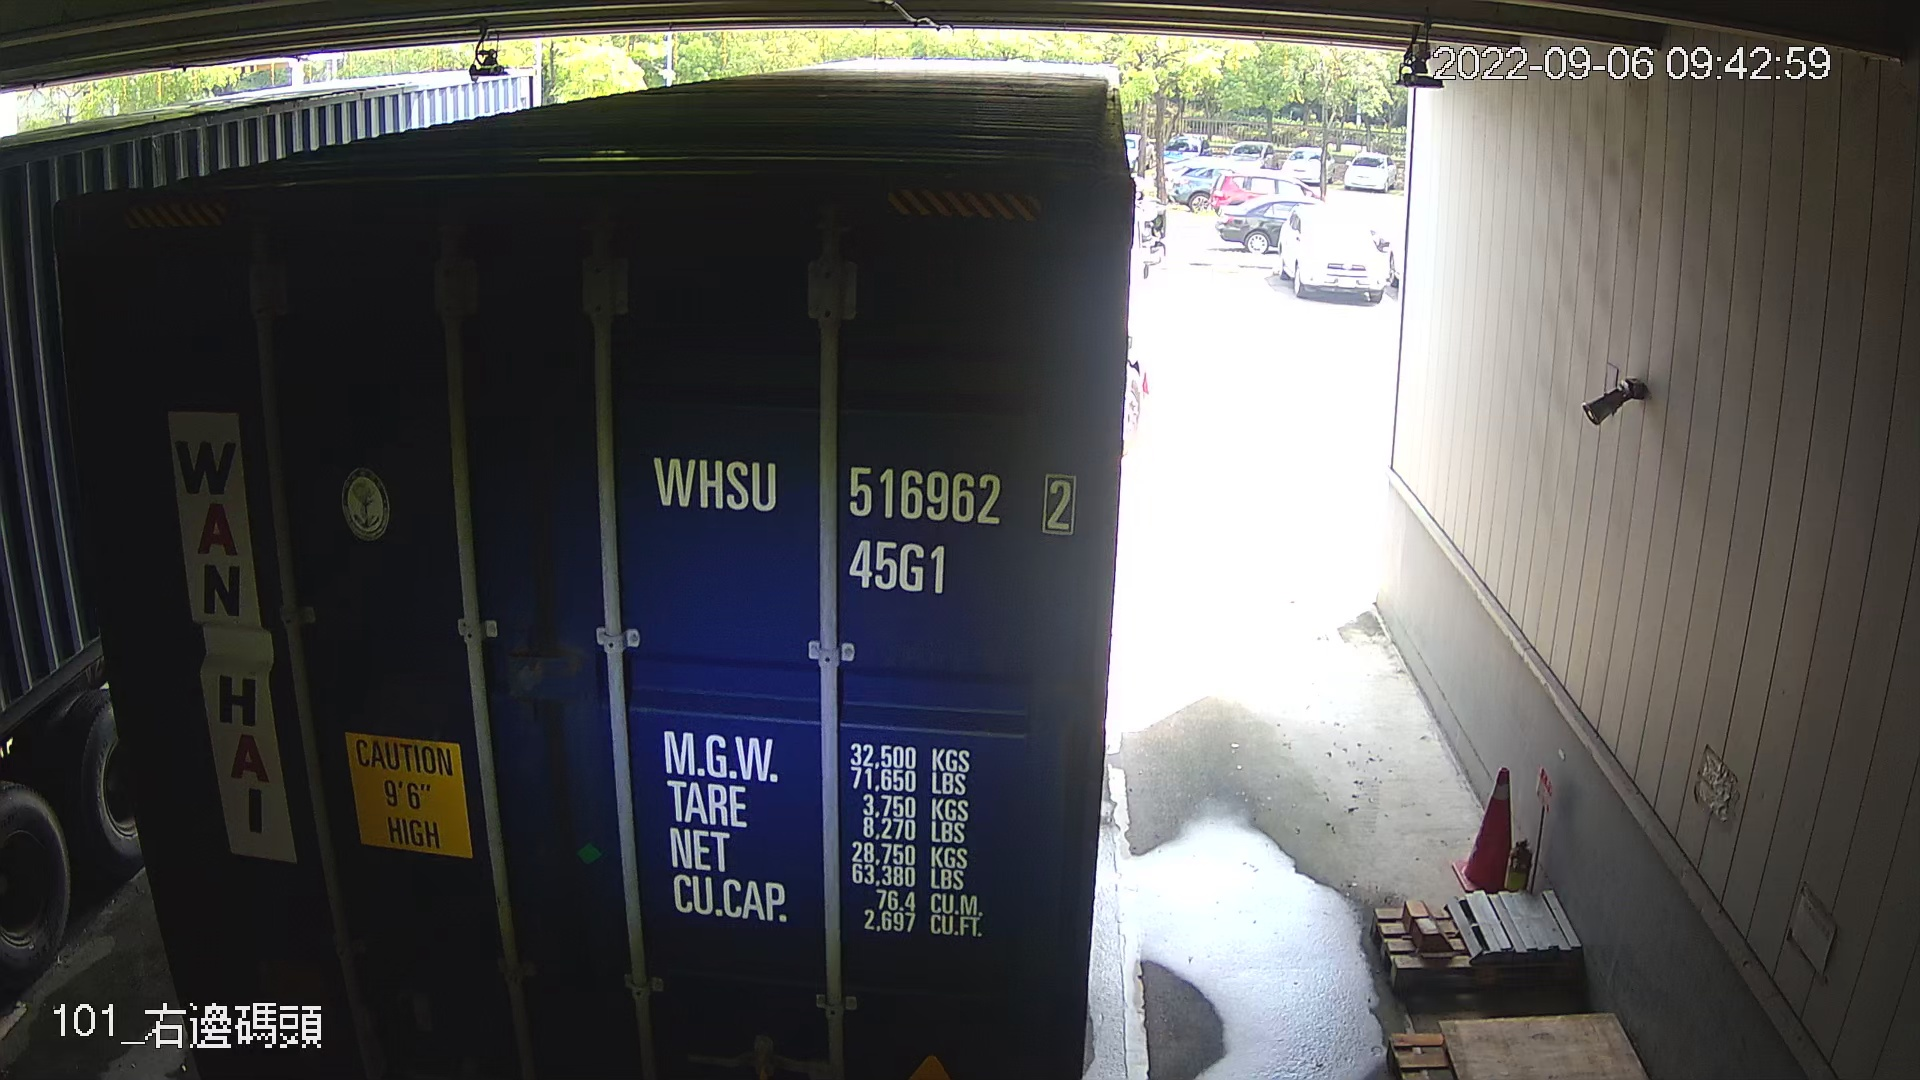container: (634, 433, 1091, 603)
